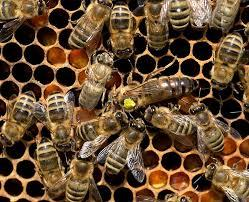Queen-Bee: (110, 72, 203, 112)
worker-bee: (105, 116, 151, 177), (186, 100, 233, 159), (0, 91, 41, 149), (209, 29, 244, 95), (66, 0, 112, 50), (75, 108, 128, 149), (32, 136, 66, 198), (81, 49, 114, 112), (41, 93, 78, 148), (146, 104, 200, 141), (138, 0, 177, 51), (63, 145, 97, 202), (110, 0, 141, 58), (0, 0, 54, 26)
